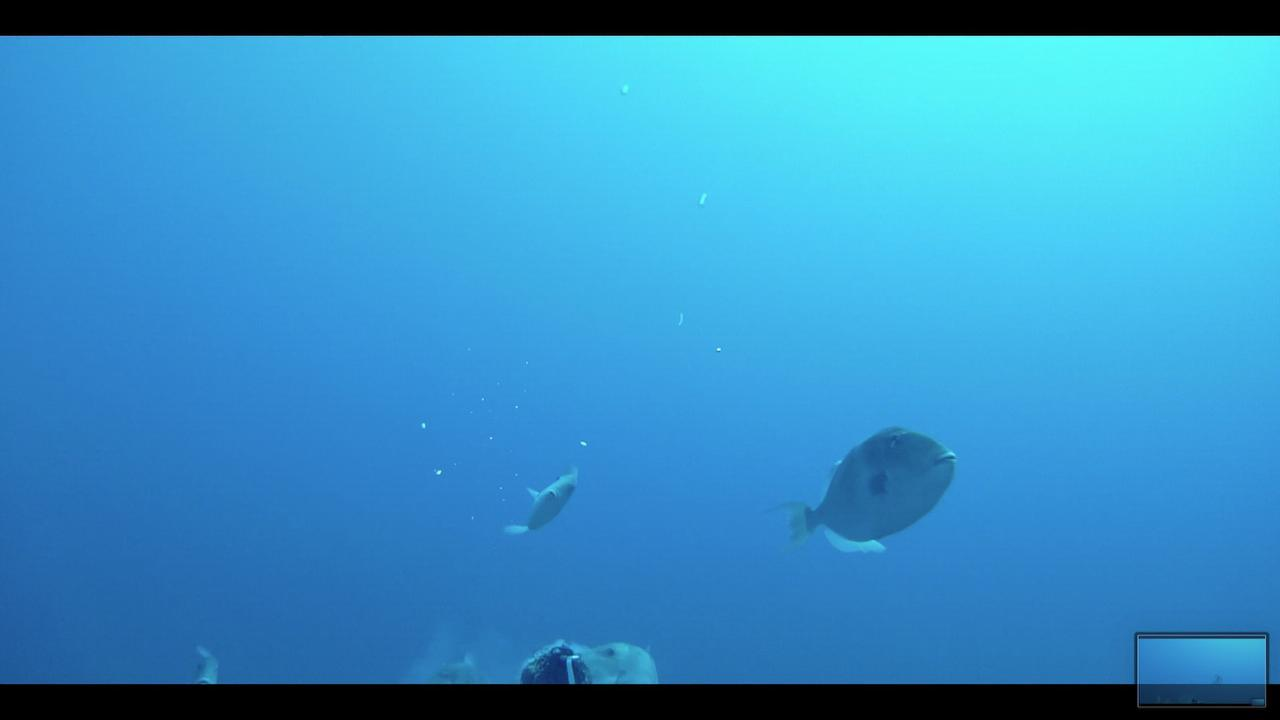balistes: (758, 422, 958, 558), (503, 470, 584, 536)
